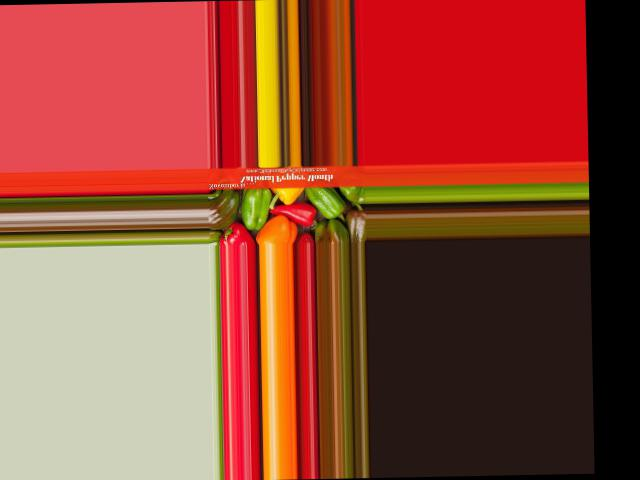bell_pepper: (208, 188, 239, 230)
